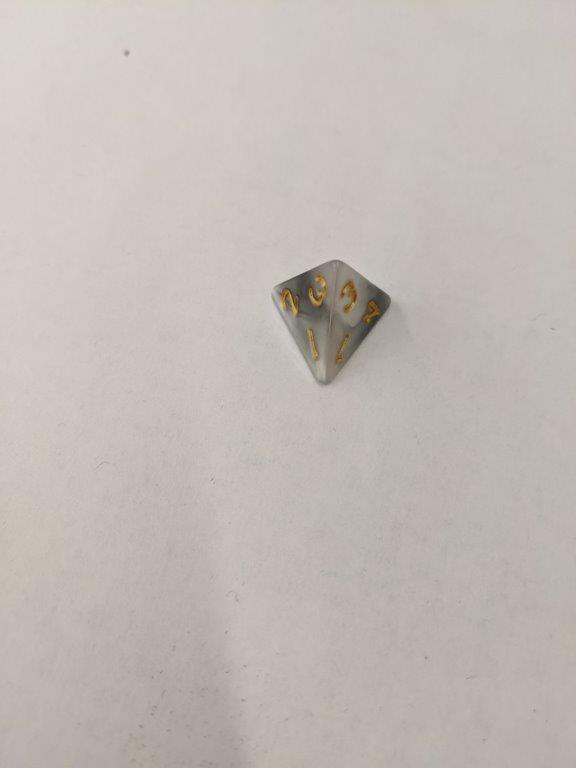d4-3: (267, 257, 395, 388)
